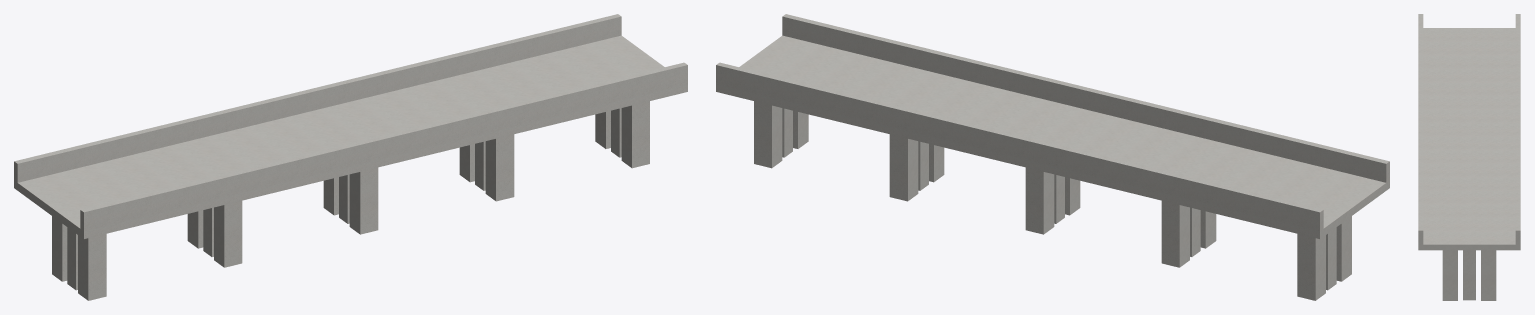
File: bridge_concrete.glb
3 renders of one model, left to right at view 1: azimuth 30°, elevation 25°; view 2: azimuth 150°, elevation 25°; view 3: azimuth 270°, elevation 25°, orthographic. The views are drawn at different scales.
Visible parts, largest first — view 1: BridgeConcrete; view 2: BridgeConcrete; view 3: BridgeConcrete.
Part boxes in pixels (x1,y1,x2,y2): BridgeConcrete: (14, 14, 687, 300); BridgeConcrete: (716, 14, 1389, 300); BridgeConcrete: (1418, 14, 1520, 300).
Bounding box in the file's own units: 40 × 6.7 × 8.
1 material, 1 textured.
